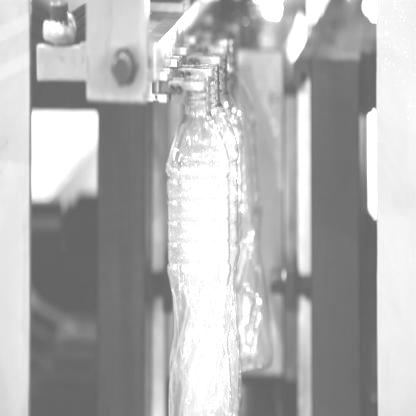bottle: (158, 84, 233, 416)
